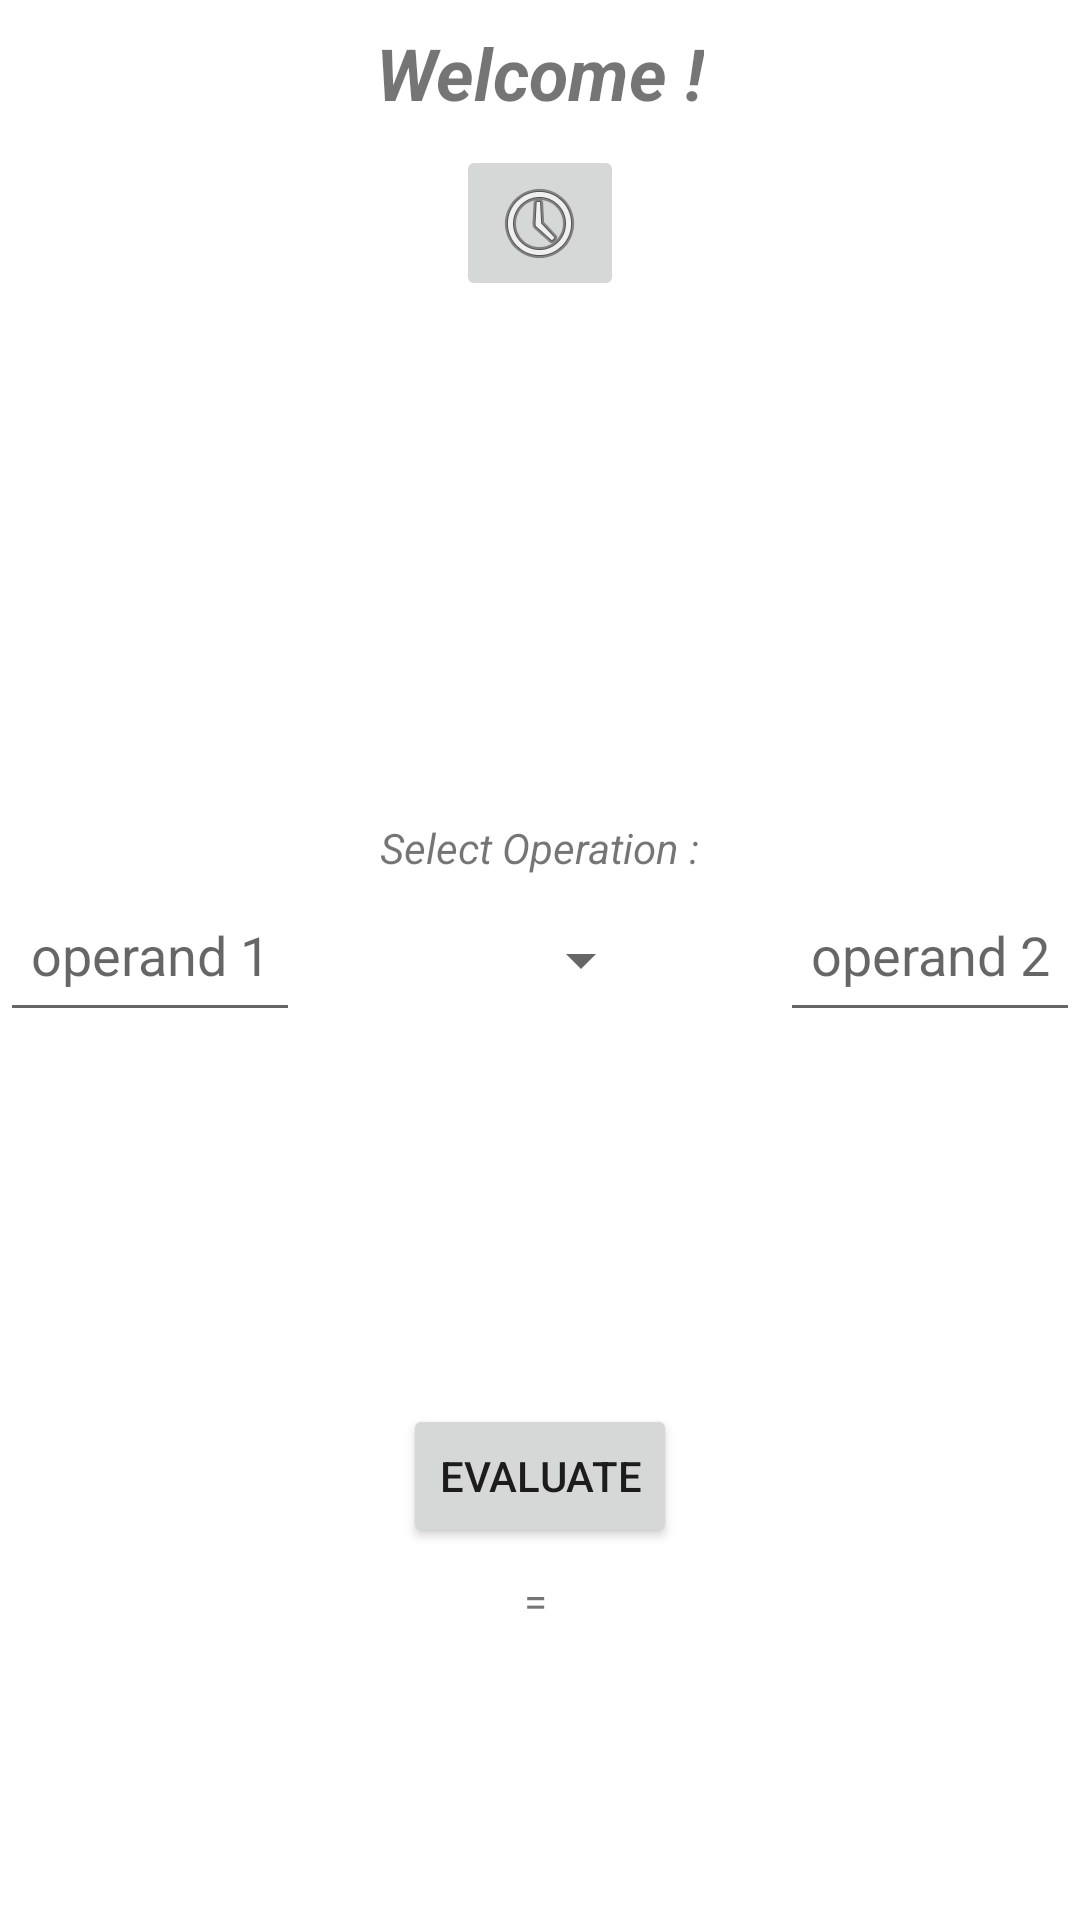

Icons on this 1080px×1920px Android screen, each with its box as Rect(x1, y1, x2, y2):
History: Rect(468, 163, 612, 283)
